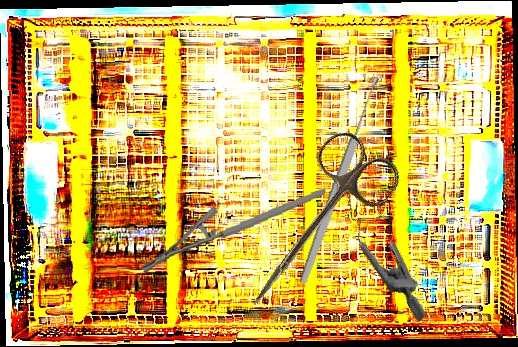Iris Scissors: (223, 124, 407, 332)
Needle Holder: (134, 188, 332, 275)
Speculum: (312, 172, 473, 323)
Surgical Spoon: (297, 75, 383, 285)
